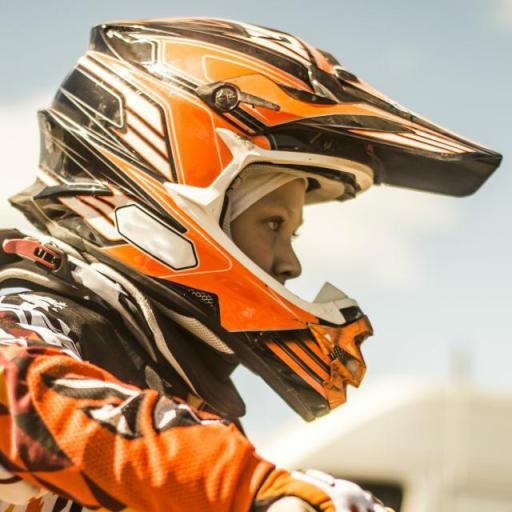Helmet: (25, 19, 492, 421)
